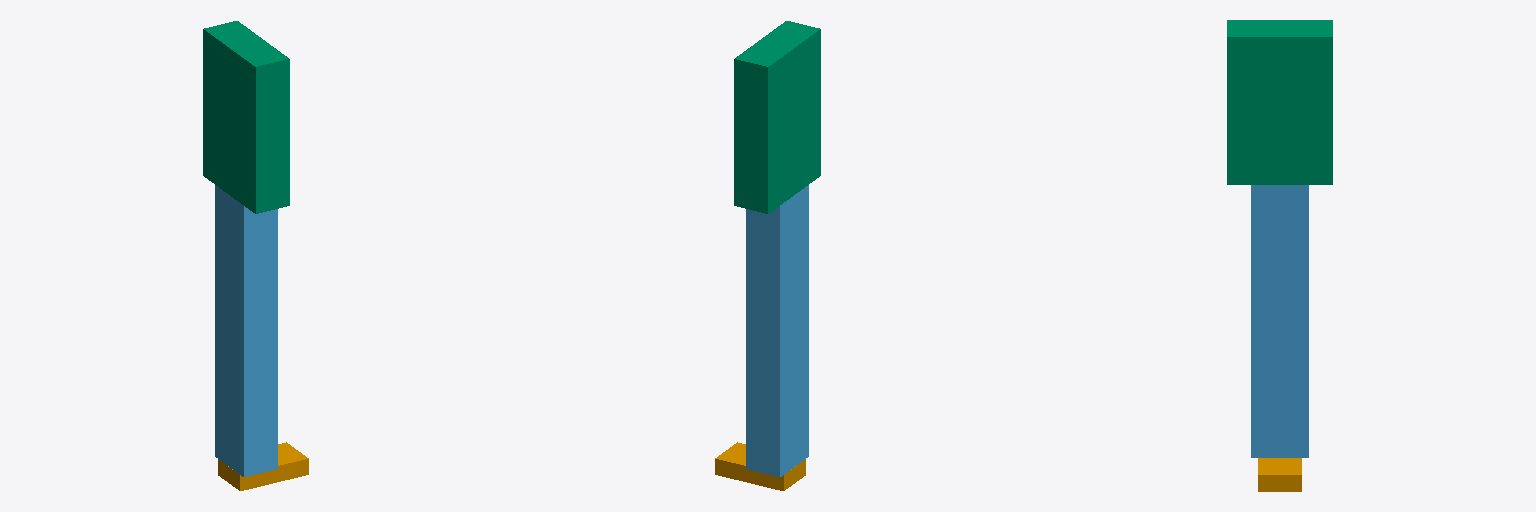
robot.urdf — threeLinkHuman_subject1:
<robot name="threeLinkHuman_subject1">
    <link name="foot">
        <inertial>
            <mass value="2.057"/>
            <origin xyz="0 0 0.026" rpy="0 0 0" />
            <inertia ixx="0.003" iyy="0.009" izz="0.012" ixy="0" ixz="0" iyz="0"/>
        </inertial>

        <visual>
			<origin xyz="0 0 0.026" rpy="0 0 0" />
            <geometry>
                <box size="0.229 0.128 0.052"/>
            </geometry>
        </visual>

        <collision>
			<origin xyz="0 0 0.026" rpy="0 0 0" />
            <geometry>
                <box size="0.229 0.128 0.052"/>
            </geometry>
        </collision>
    </link>
    
    <link name="leg">
        <inertial>
            <mass value="22.336"/>
            <origin xyz="0 0 0.4345" rpy="0 0 0" />
            <inertia ixx="1.458" iyy="1.431" izz="0.075" ixy="0" ixz="0" iyz="0"/>
        </inertial>

        <visual>
            <origin xyz="0 0 0.4345" rpy="0 0 0" />
            <geometry>
                <box size="0.114 0.165 0.869"/>
            </geometry>
        </visual>

        <collision>
            <origin xyz="0 0 0.4345" rpy="0 0 0" />
            <geometry>
                <box size="0.114 0.165 0.869"/>
            </geometry>
        </collision>
    </link>
    
    <link name="torso">
        <inertial>
            <mass value="22.144"/>
            <origin xyz="0 0 0.235" rpy="0 0 0" />
            <inertia ixx="0.577" iyy="0.432" izz="0.194" ixy="0" ixz="0" iyz="0"/>
        </inertial>

        <visual>
            <origin xyz="0 0 0.235" rpy="0 0 0" />
            <geometry>
                <box size="0.114 0.303 0.470"/>
            </geometry>
        </visual>

        <collision>
            <origin xyz="0 0 0.235" rpy="0 0 0" />
            <geometry>
                <box size="0.114 0.303 0.470"/>
            </geometry>
        </collision>
    </link>
        
    <joint name="ankle" type="revolute">
        <origin xyz="-0.057 0 0.052" rpy="0 0 0"/>
        <parent link="foot"/>
        <child link="leg"/>
        <dynamics damping="0.1" friction="0.0"/>
        <limit effort="30" velocity="1.0" lower="-10.0" upper="10.0" />
        <axis xyz="0 1 0" />
    </joint>
    
    <joint name="hip" type="revolute">
        <origin xyz="0 0 0.869" rpy="0 0 0"/>
        <parent link="leg"/>
        <child link="torso"/>
        <dynamics damping="0.1" friction="0.0"/>
        <limit effort="30" velocity="1.0" lower="-10.0" upper="10.0" />
        <axis xyz="0 1 0" />
    </joint>

</robot>
    

--- What the picture shows (computed from the rendered views, not written in the file) ---
The picture shows the robot from 3 angles, left to right: view 1: azimuth 30°, elevation 25°; view 2: azimuth 150°, elevation 25°; view 3: azimuth 270°, elevation 25°; orthographic projection.
Model threeLinkHuman_subject1 with 3 links and 2 joints (2 revolute), rooted at foot, posed every joint at zero.
Visible links, largest first — view 1: leg, torso, foot; view 2: leg, torso, foot; view 3: torso, leg, foot.
Boxes of the visible links, x1,y1,x2,y2 form: leg: (215, 185, 277, 476); torso: (203, 21, 289, 213); foot: (218, 442, 308, 490); leg: (746, 185, 808, 476); torso: (734, 21, 820, 213); foot: (715, 442, 805, 490); torso: (1227, 20, 1332, 184); leg: (1251, 185, 1308, 457); foot: (1258, 458, 1301, 491).
Size in the robot's own frame: 0.229 by 0.303 by 1.39 metres.
Geometry: primitives only (box / cylinder / sphere), no mesh files.
